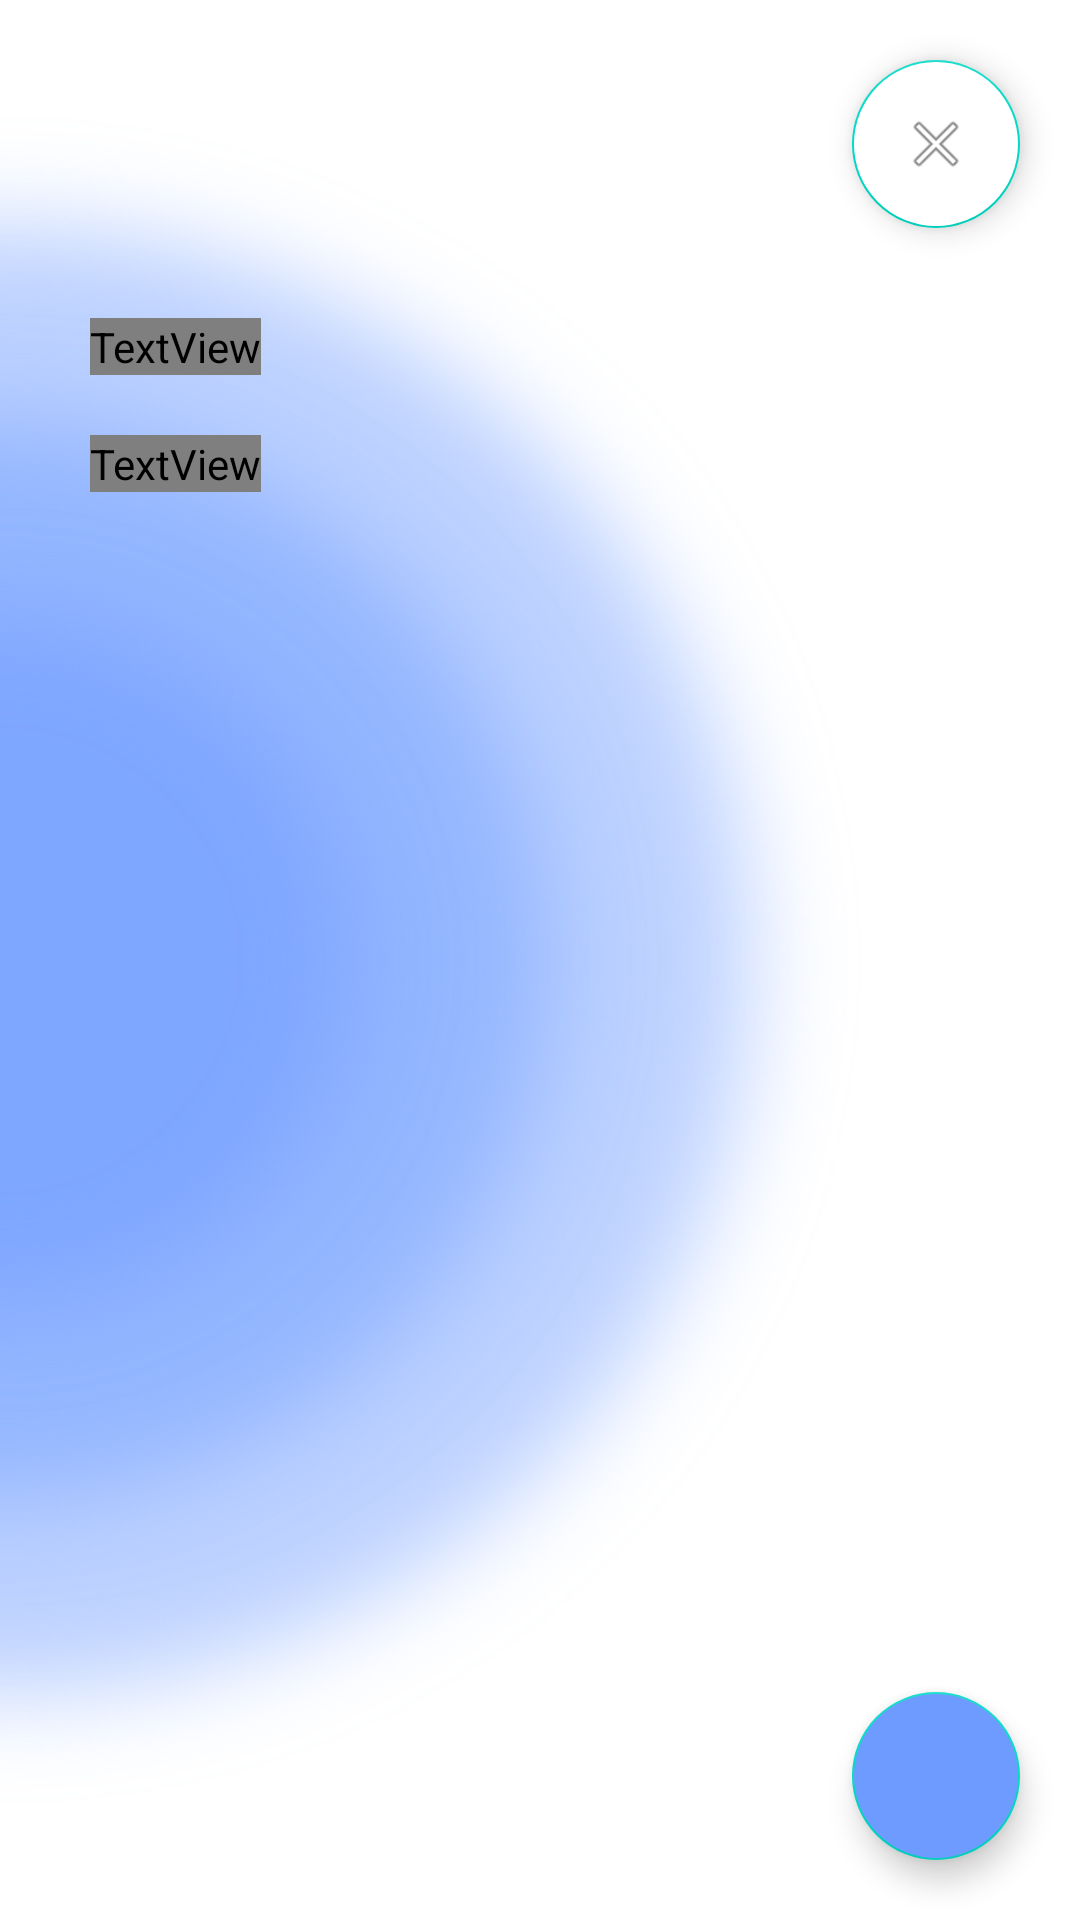

Locate icon controls on the screen. Image size 1080x1920, boxes as (x1, y1, x2, y2).
close clear cancel: (852, 60, 1020, 228)
